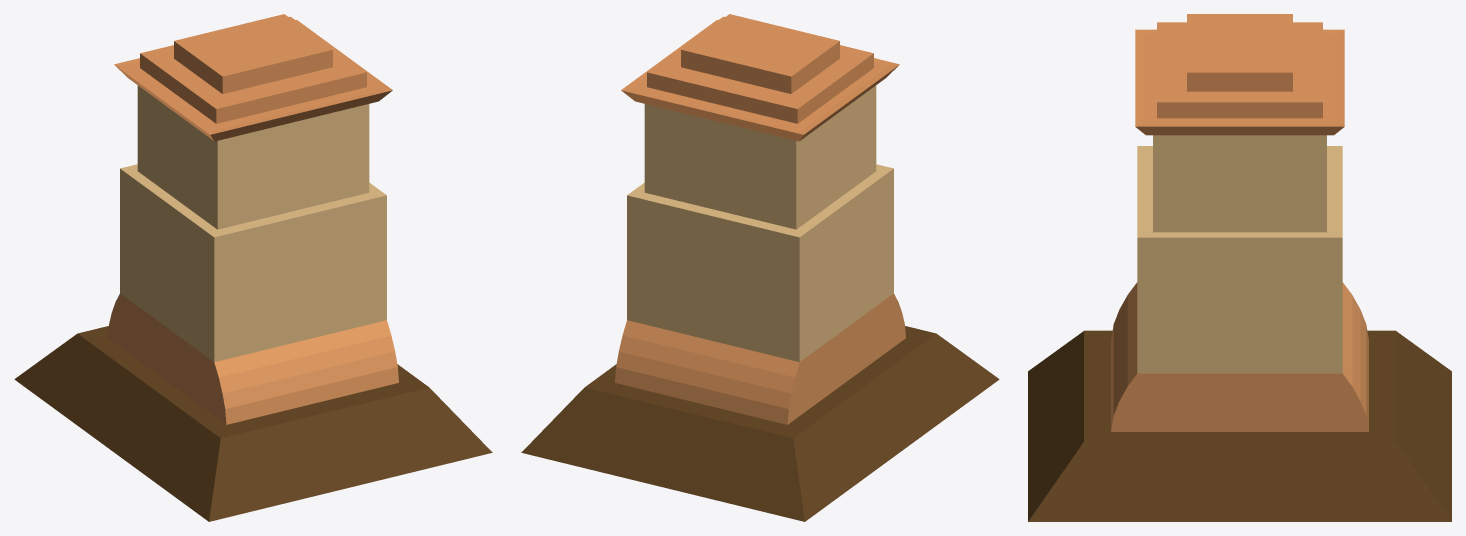
The picture shows the model from 3 angles, left to right: view 1: azimuth 30°, elevation 25°; view 2: azimuth 150°, elevation 25°; view 3: azimuth 270°, elevation 25°; orthographic projection. The views are drawn at different scales.
Parts seen in each view (by area): view 1: Cube, Cube.002, Cube.001, Cube.003; view 2: Cube, Cube.002, Cube.001, Cube.003; view 3: Cube.002, Cube, Cube.001, Cube.003.
Part boxes in pixels (x1,y1,x2,y2): Cube: (120, 85, 386, 361); Cube.002: (14, 326, 492, 521); Cube.001: (114, 14, 392, 141); Cube.003: (108, 293, 398, 424); Cube: (627, 85, 893, 361); Cube.002: (521, 326, 999, 521); Cube.001: (621, 14, 899, 141); Cube.003: (615, 293, 905, 424); Cube.002: (1028, 330, 1451, 521); Cube: (1137, 135, 1342, 373); Cube.001: (1135, 14, 1344, 135); Cube.003: (1111, 282, 1368, 431).
Bounding box in the file's own units: 2.17 × 2.72 × 2.59.
